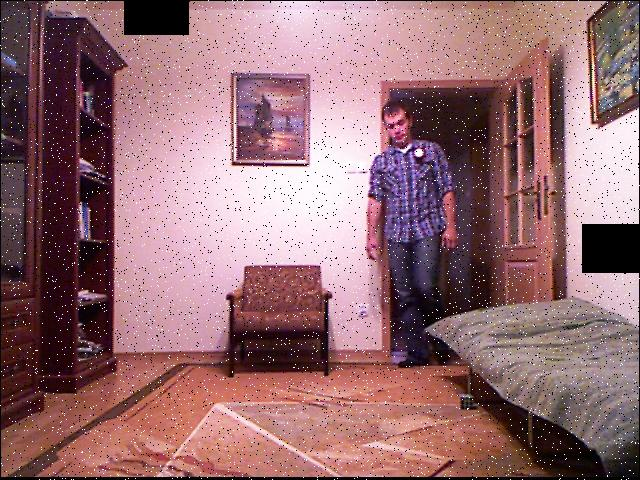walking: (361, 97, 460, 372)
